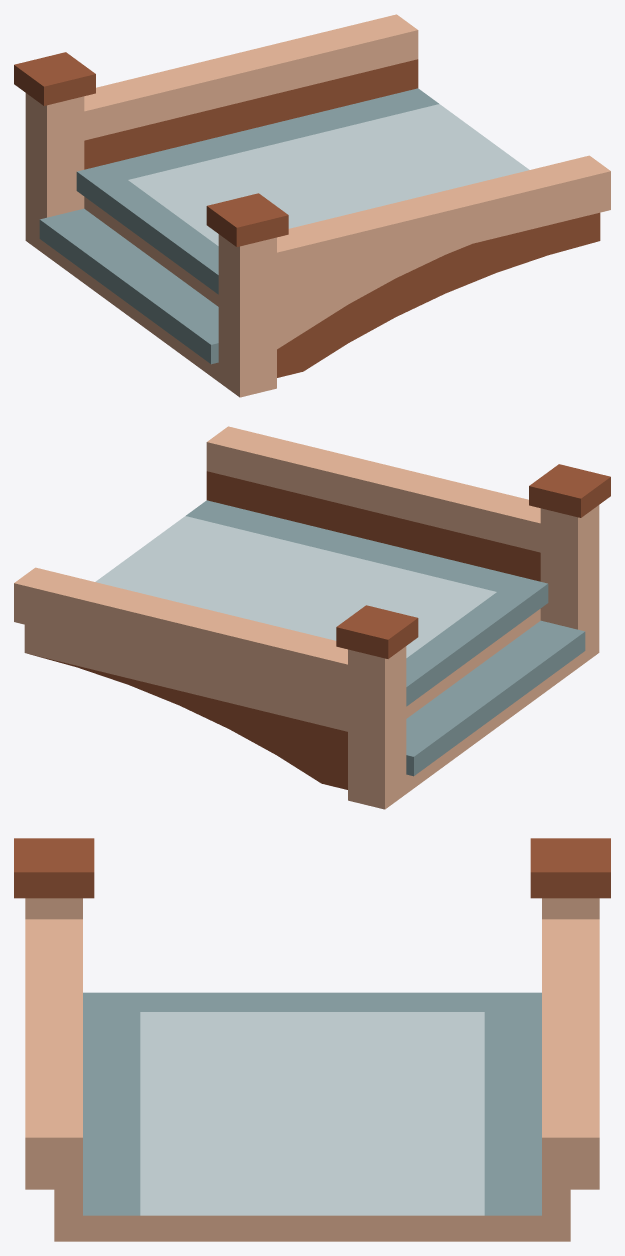
Rendered from bridge_side_woodRound.glb.
The picture shows the model from 3 angles, top to bottom: view 1: azimuth 30°, elevation 25°; view 2: azimuth 150°, elevation 25°; view 3: azimuth 270°, elevation 25°; orthographic projection. The views are drawn at different scales.
Parts seen in each view (by area): view 1: bridge_side_woodRound; view 2: bridge_side_woodRound; view 3: bridge_side_woodRound.
Boxes of the visible parts, x1,y1,x2,y2 form: bridge_side_woodRound: (14, 14, 610, 397); bridge_side_woodRound: (14, 426, 610, 809); bridge_side_woodRound: (14, 838, 610, 1241).
Size of the model in its own units: 1.02 by 0.45 by 1.04.
